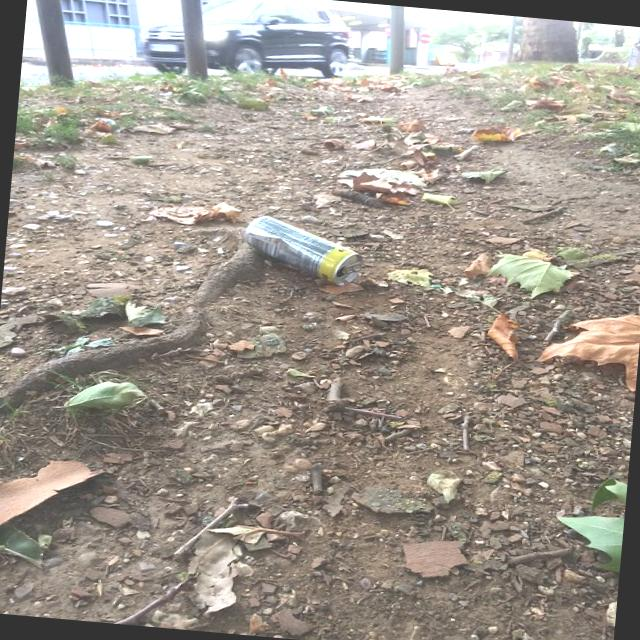Recycle: (244, 216, 368, 288)
